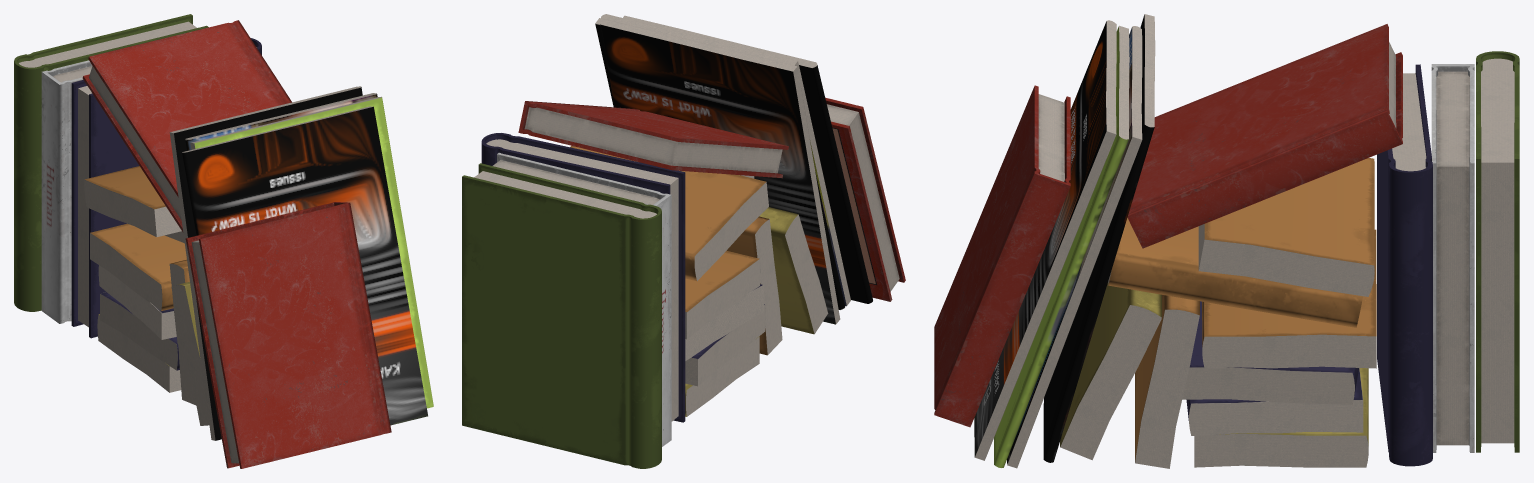
The model's file is SM_Book_Stack_03.fbx.
The picture shows the model from 3 angles, left to right: view 1: azimuth 30°, elevation 25°; view 2: azimuth 150°, elevation 25°; view 3: azimuth 270°, elevation 25°; orthographic projection. The views are drawn at different scales.
Parts seen in each view (by area): view 1: SM_Book_Stack_03_LOD0; view 2: SM_Book_Stack_03_LOD0; view 3: SM_Book_Stack_03_LOD0.
Boxes of the visible parts, <box> form: SM_Book_Stack_03_LOD0: <box>14,14,433,468</box>; SM_Book_Stack_03_LOD0: <box>462,14,905,468</box>; SM_Book_Stack_03_LOD0: <box>934,14,1519,468</box>.
Bounding box in the file's own units: 30.02 × 57.58 × 36.71.
